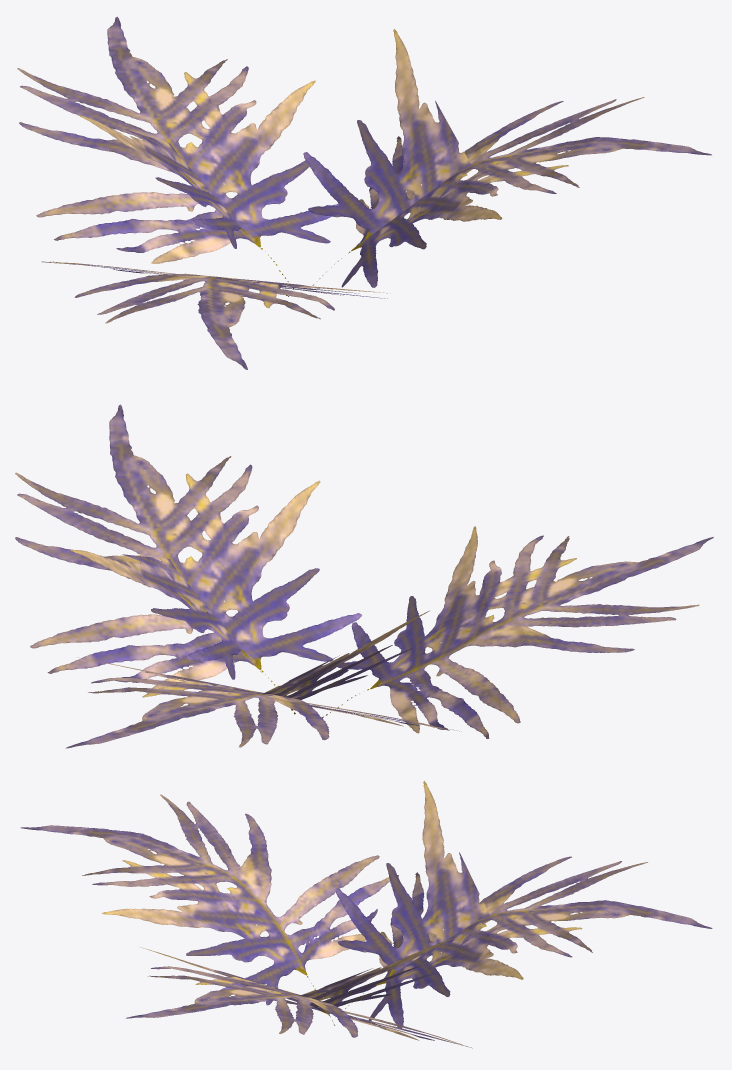
File: Painter Wort A.fbx
The picture shows the model from 3 angles, top to bottom: view 1: azimuth 30°, elevation 25°; view 2: azimuth 150°, elevation 25°; view 3: azimuth 270°, elevation 25°; orthographic projection. The views are drawn at different scales.
Parts seen in each view (by area): view 1: Painter Wort A; view 2: Painter Wort A; view 3: Painter Wort A.
Boxes of the visible parts, left/top/right/bottom form: Painter Wort A: left=17, top=16, right=711, bottom=369; Painter Wort A: left=15, top=404, right=713, bottom=748; Painter Wort A: left=20, top=781, right=712, bottom=1048.
Bounding box in the file's own units: 112 × 32.98 × 124.
